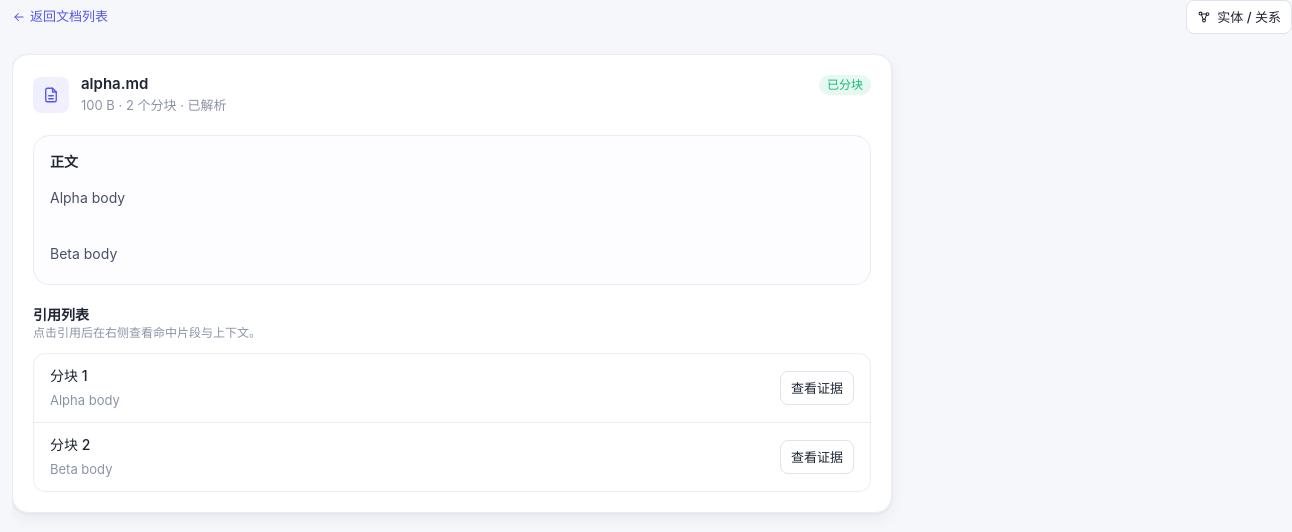
Test: evidence load failure stays local to drawer
Click the button with aria-label "查看证据 分块 1": x=817, y=388 [780, 371, 854, 405]
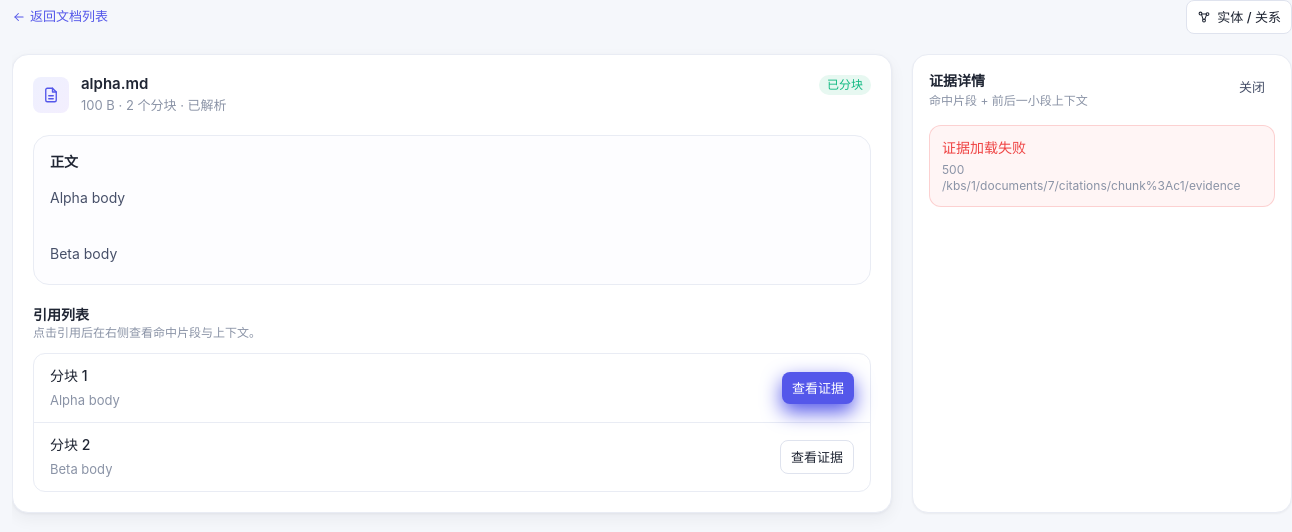
Expected: the text "Alpha body Beta body" is shown, [50, 189, 125, 262]
Expected: the text "证据加载失败" is shown, [942, 139, 1026, 156]
